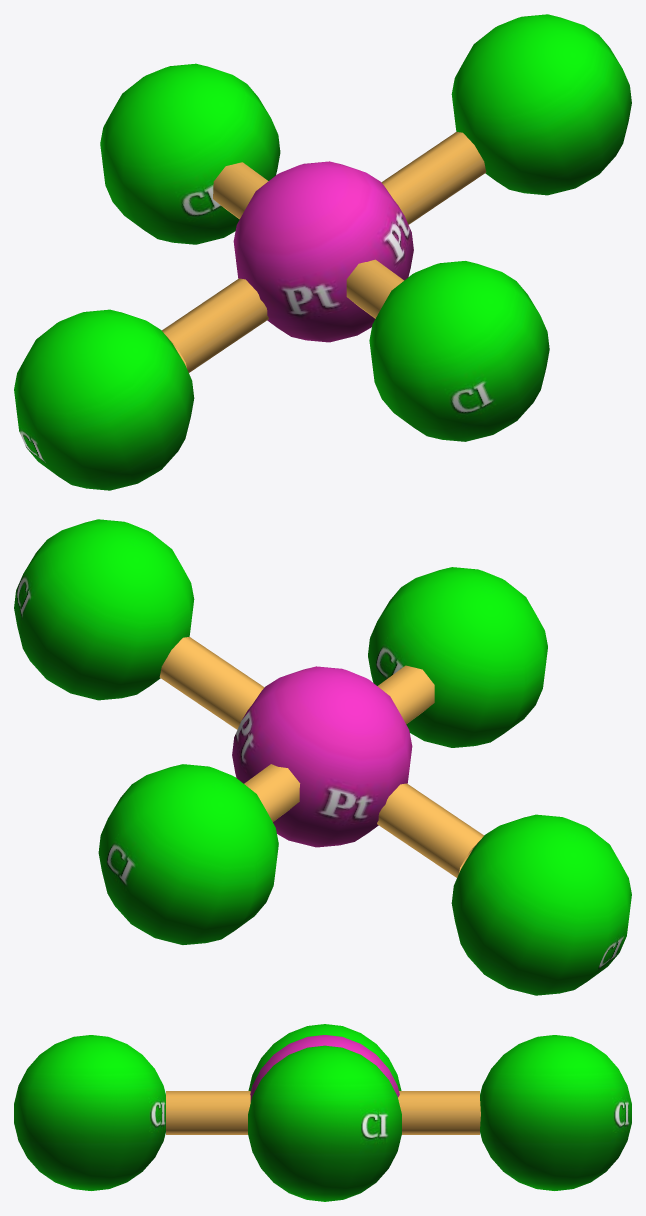
Rendered from PtCl42.dae.
3 views of the same model, one above another, from view 1: azimuth 30°, elevation 25°; view 2: azimuth 150°, elevation 25°; view 3: azimuth 270°, elevation 25° (orthographic). The views are drawn at different scales.
Parts seen in each view (by area): view 1: polySurface21; view 2: polySurface21; view 3: polySurface21.
Boxes of the visible parts, x1,y1,x2,y2 form: polySurface21: [14, 14, 631, 490]; polySurface21: [14, 519, 631, 995]; polySurface21: [14, 1024, 631, 1201].
Bounding box in the file's own units: 4.11 × 2.33 × 4.3.
Materials: 1 (1 with a texture image).
